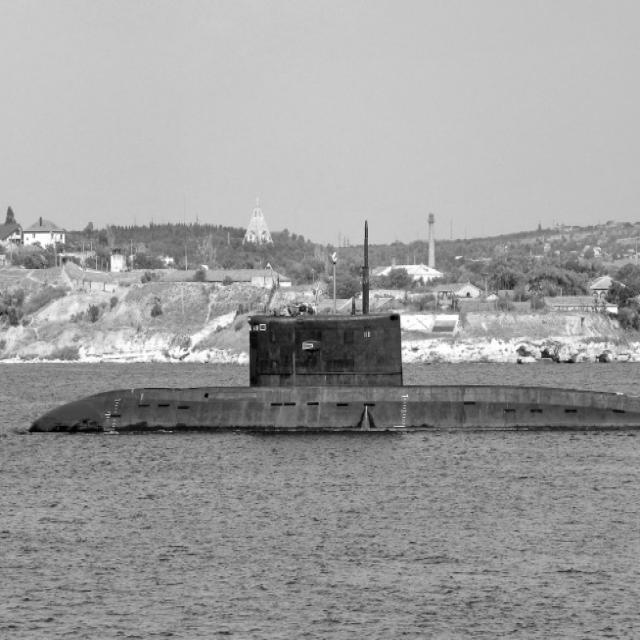submarine: (27, 313, 640, 433)
